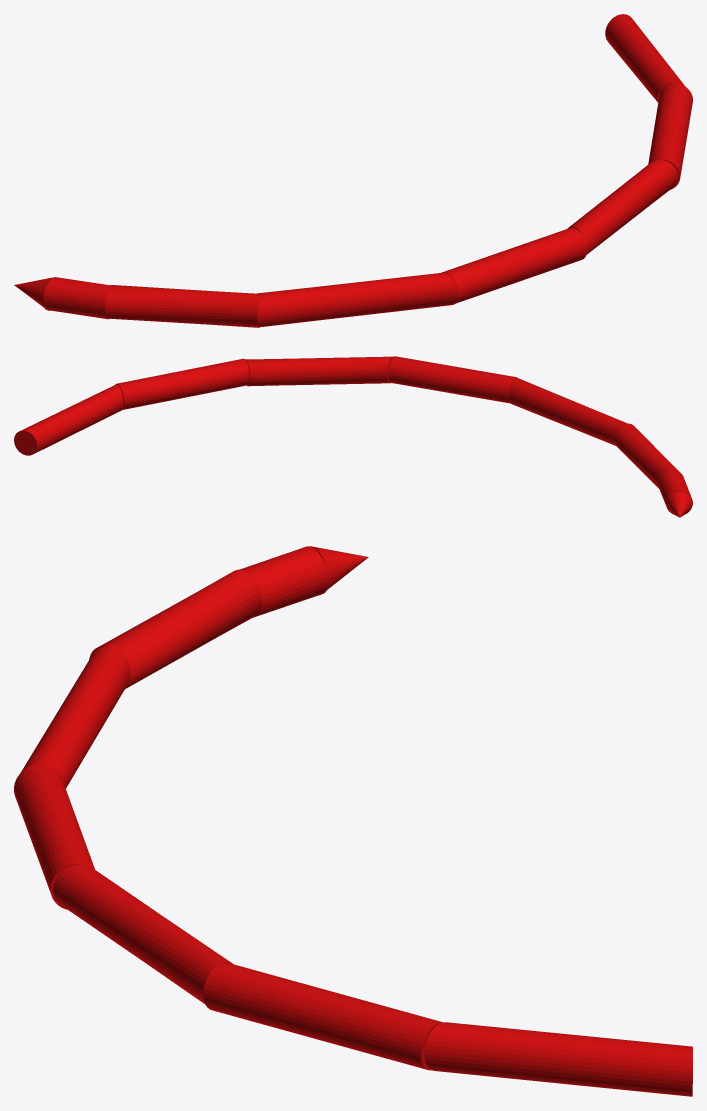
The model's file is needle_collision.OBJ.
3 renders of one model, top to bottom at view 1: azimuth 30°, elevation 25°; view 2: azimuth 150°, elevation 25°; view 3: azimuth 270°, elevation 25°, orthographic. The views are drawn at different scales.
Parts seen in each view (by area): view 1: needle_collision_Cone; view 2: needle_collision_Cone; view 3: needle_collision_Cone.
Part boxes in pixels (box(x1,y1,x2,y2)): needle_collision_Cone: box(14, 14, 692, 327); needle_collision_Cone: box(14, 356, 692, 517); needle_collision_Cone: box(14, 546, 692, 1096).
Bounding box in the file's own units: 0.1732 × 0.0075 × 0.0946.
